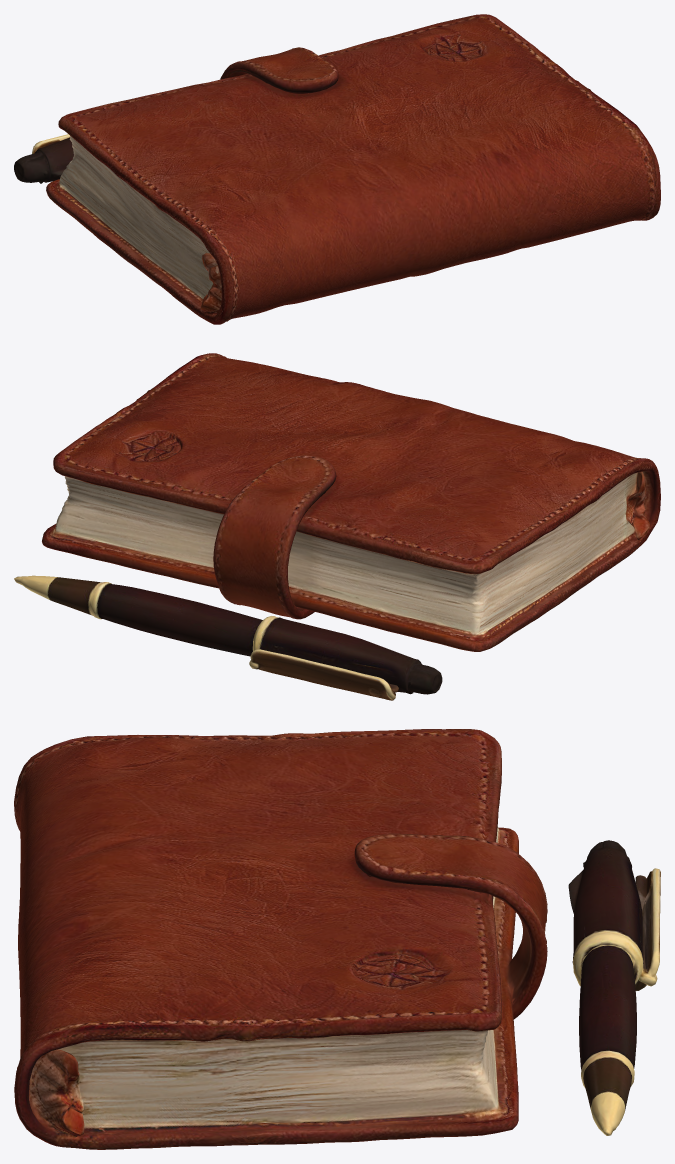
Rendered from leather-travel-journal-mobile.glb.
3 views of the same model, one above another, from view 1: azimuth 30°, elevation 25°; view 2: azimuth 150°, elevation 25°; view 3: azimuth 270°, elevation 25° (orthographic). The views are drawn at different scales.
Visible parts, largest first — view 1: tripo_node_7057dbe5-4938-4327-81a5-95e68edc0428; view 2: tripo_node_7057dbe5-4938-4327-81a5-95e68edc0428; view 3: tripo_node_7057dbe5-4938-4327-81a5-95e68edc0428.
Boxes of the visible parts, left/top/right/bottom form: tripo_node_7057dbe5-4938-4327-81a5-95e68edc0428: left=14, top=14, right=660, bottom=324; tripo_node_7057dbe5-4938-4327-81a5-95e68edc0428: left=14, top=353, right=660, bottom=700; tripo_node_7057dbe5-4938-4327-81a5-95e68edc0428: left=14, top=729, right=660, bottom=1149.
Size of the model in its own units: 0.5013 by 0.14 by 0.4546.
Materials: 1 (1 with a texture image).
